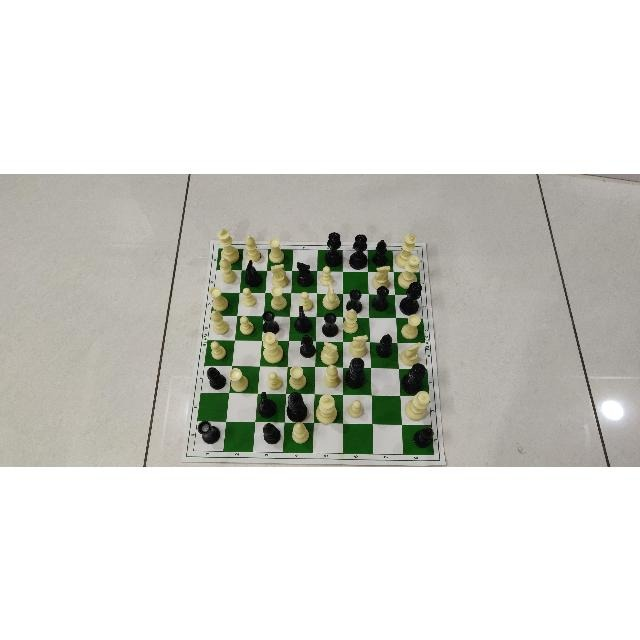black-bishop: (412, 422, 435, 454), (202, 365, 227, 389), (372, 236, 392, 266), (259, 422, 283, 446), (294, 334, 315, 359), (375, 334, 393, 360)
black-king: (285, 391, 313, 423), (346, 355, 368, 390)
black-knight: (241, 258, 264, 288), (255, 391, 280, 418), (293, 304, 317, 332), (293, 260, 314, 286)
black-queen: (398, 361, 428, 395), (324, 228, 346, 267), (398, 281, 422, 315), (348, 230, 367, 270)
black-rook: (194, 419, 222, 446), (259, 310, 285, 335), (319, 312, 343, 338), (372, 285, 394, 311), (343, 288, 364, 313)
white-bishop: (213, 254, 239, 286), (241, 233, 264, 263), (288, 420, 314, 445), (321, 363, 344, 391), (206, 309, 231, 334), (341, 307, 362, 332)
white-king: (212, 228, 242, 264), (315, 387, 340, 425), (395, 231, 418, 267)
white-knight: (396, 338, 425, 365), (319, 338, 343, 366), (267, 260, 290, 289), (322, 282, 342, 310), (347, 331, 368, 357), (370, 264, 391, 288)
white-pawn: (295, 290, 318, 313), (206, 339, 230, 359), (346, 396, 366, 418), (263, 369, 285, 389), (236, 314, 256, 336), (318, 264, 338, 285), (239, 286, 259, 306)
white-queen: (258, 330, 286, 364), (403, 389, 432, 421), (396, 252, 419, 291)
white-rook: (399, 313, 422, 341), (286, 364, 310, 390), (266, 284, 290, 309), (226, 366, 251, 390), (267, 238, 290, 263), (207, 287, 230, 309)
